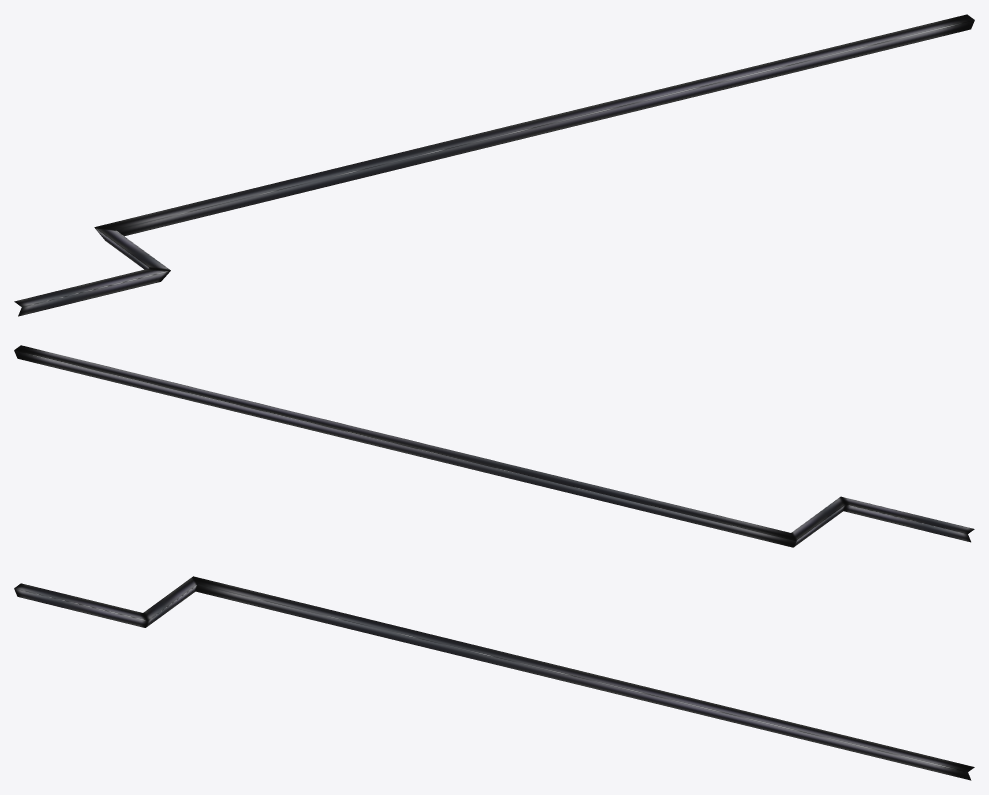
The picture shows the model from 3 angles, top to bottom: view 1: azimuth 30°, elevation 25°; view 2: azimuth 150°, elevation 25°; view 3: azimuth 330°, elevation 25°; orthographic projection. The views are drawn at different scales.
Visible parts, largest first — view 1: Cylinder20; view 2: Cylinder20; view 3: Cylinder20.
Boxes of the visible parts, x1,y1,x2,y2 form: Cylinder20: (14, 14, 974, 316); Cylinder20: (14, 345, 974, 547); Cylinder20: (14, 576, 974, 780).
Size of the model in its own units: 1186 by 13.71 by 130.
1 material, 1 textured.
